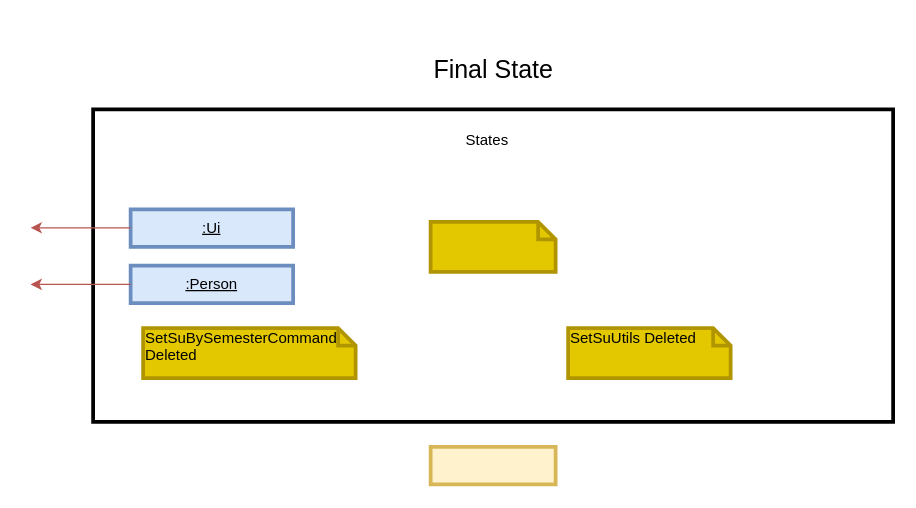
The diagram is 916 pixels wide and 508 high, and some of its shapes have lost their labels. Each missing label, with the centre of its shape:
"Current State" goes at (x=492, y=465).
"suList Deleted" goes at (x=492, y=246).
